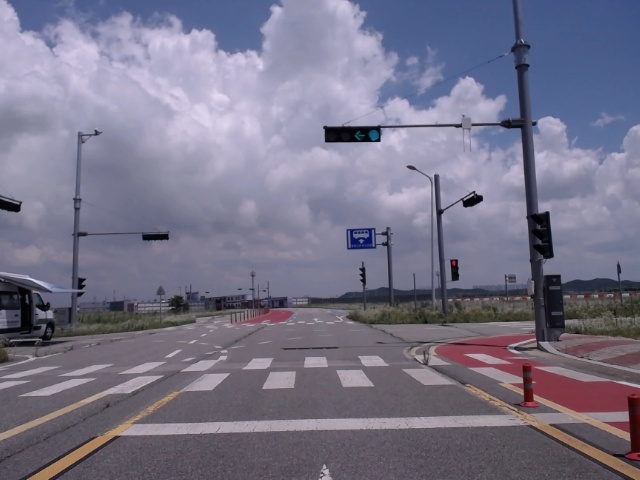all_green_4: (326, 126, 385, 145)
